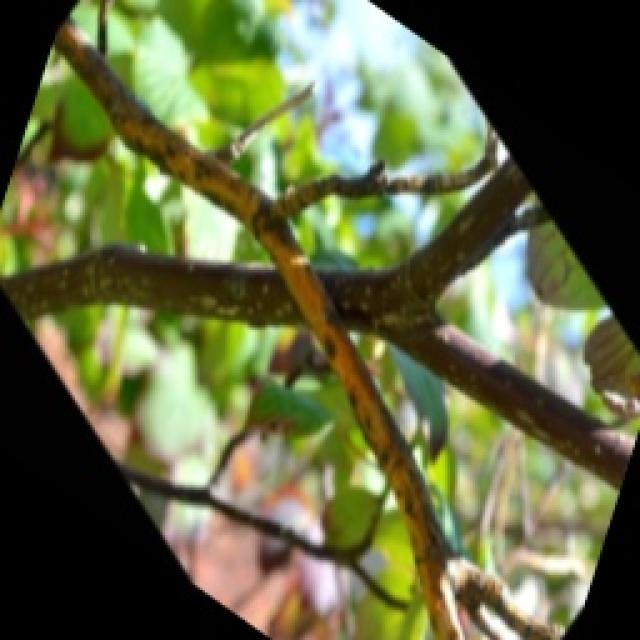Golden_canker: (17, 37, 554, 640)
